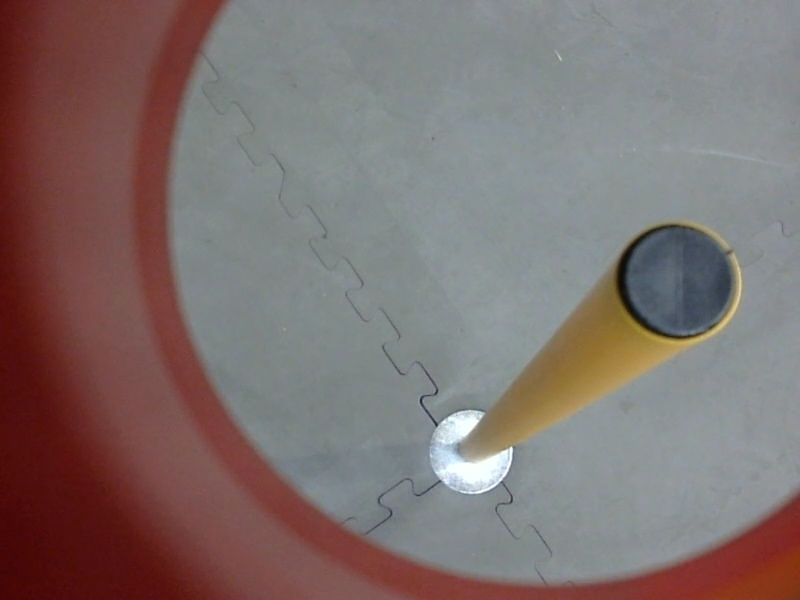tip: (606, 214, 746, 350)
